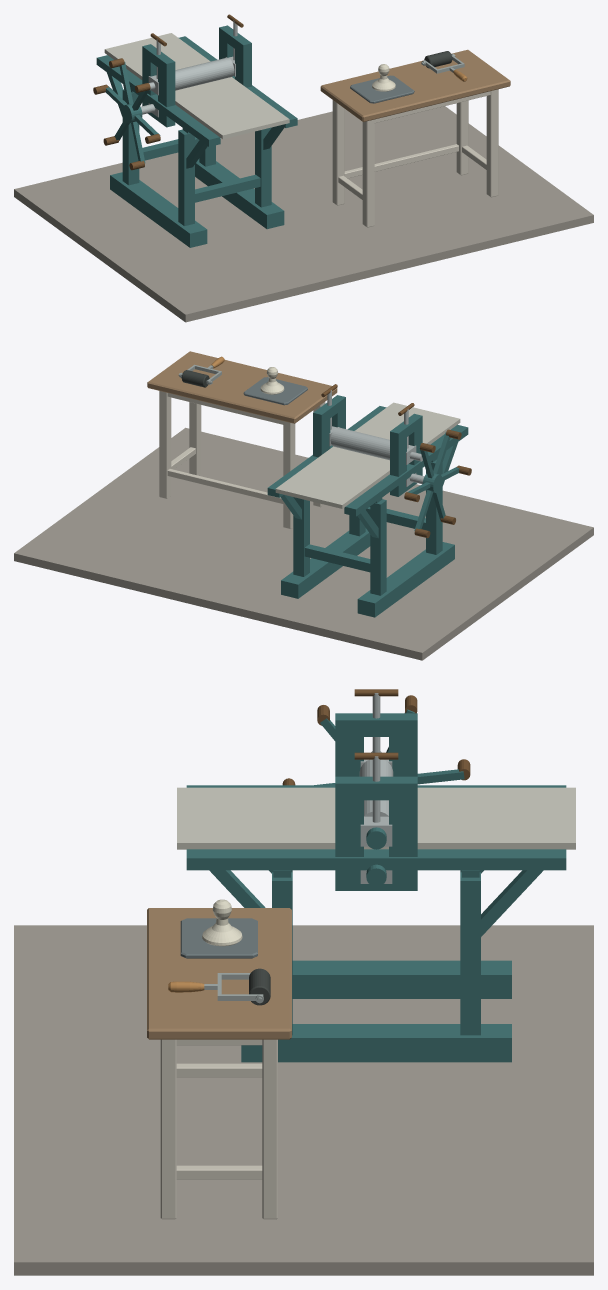
3 renders of one model, top to bottom at view 1: azimuth 30°, elevation 25°; view 2: azimuth 150°, elevation 25°; view 3: azimuth 270°, elevation 25°, orthographic. The views are drawn at different scales.
Visible parts, largest first — view 1: SCENE_ONLY__DisplayFloor, press__WholeLongRigidTraverseBed, table__Complete work surface, press__WholeGroundFootLongShoe_0, press__WholeGroundFootLongShoe_1, press__WholePiercedSideCasting_0, press__WholeLongBedRail_0, press__WholeFullLeg_0_0, table__Worktable leg, table__Worktable leg.002, press__WholePiercedSideCasting_1, table__Worktable leg.001 (+10 smaller); view 2: SCENE_ONLY__DisplayFloor, press__WholeLongRigidTraverseBed, table__Complete work surface, press__WholeGroundFootLongShoe_0, press__WholeGroundFootLongShoe_1, press__WholePiercedSideCasting_0, press__WholeLongBedRail_0, press__WholeFullLeg_0_1, table__Worktable leg.003, press__WholePiercedSideCasting_1, press__WholeContinuousPressRoll_1, press__WholeFullLeg_1_1 (+9 smaller); view 3: SCENE_ONLY__DisplayFloor, press__WholeLongRigidTraverseBed, table__Complete work surface, press__WholeGroundFootLongShoe_1, press__WholeLongBedRail_1, press__WholeGroundFootLongShoe_0, press__WholePiercedSideCasting_1, press__WholePiercedSideCasting_0, press__WholeFullLeg_1_1, table__Worktable leg.002, table__Worktable leg.003, muller__WholeGroundFootFlatGrindingSlab (+7 smaller).
Part boxes in pixels (left/top/right/bottom): SCENE_ONLY__DisplayFloor: left=14, top=106, right=593, bottom=322; press__WholeLongRigidTraverseBed: left=104, top=33, right=289, bottom=139; table__Complete work surface: left=320, top=49, right=510, bottom=121; press__WholeGroundFootLongShoe_0: left=110, top=172, right=207, bottom=247; press__WholeGroundFootLongShoe_1: left=195, top=158, right=284, bottom=229; press__WholePiercedSideCasting_0: left=142, top=44, right=175, bottom=127; press__WholeLongBedRail_0: left=96, top=55, right=220, bottom=146; press__WholeFullLeg_0_0: left=178, top=129, right=194, bottom=226; table__Worktable leg: left=362, top=119, right=374, bottom=227; table__Worktable leg.002: left=486, top=89, right=498, bottom=197; press__WholePiercedSideCasting_1: left=219, top=25, right=251, bottom=87; table__Worktable leg.001: left=332, top=100, right=344, bottom=205; SCENE_ONLY__DisplayFloor: left=14, top=427, right=593, bottom=660; press__WholeLongRigidTraverseBed: left=275, top=402, right=460, bottom=508; table__Complete work surface: left=147, top=351, right=337, bottom=423; press__WholeGroundFootLongShoe_0: left=357, top=542, right=454, bottom=617; press__WholeGroundFootLongShoe_1: left=281, top=528, right=370, bottom=598; press__WholePiercedSideCasting_0: left=390, top=413, right=422, bottom=496; press__WholeLongBedRail_0: left=344, top=424, right=468, bottom=516; press__WholeFullLeg_0_1: left=370, top=499, right=386, bottom=595; table__Worktable leg.003: left=159, top=391, right=171, bottom=498; press__WholePiercedSideCasting_1: left=313, top=395, right=345, bottom=457; press__WholeContinuousPressRoll_1: left=330, top=427, right=389, bottom=460; press__WholeFullLeg_1_1: left=293, top=497, right=309, bottom=576; SCENE_ONLY__DisplayFloor: left=14, top=925, right=593, bottom=1275; press__WholeLongRigidTraverseBed: left=177, top=787, right=575, bottom=849; table__Complete work surface: left=147, top=908, right=291, bottom=1039; press__WholeGroundFootLongShoe_1: left=241, top=1024, right=511, bottom=1062; press__WholeLongBedRail_1: left=186, top=849, right=566, bottom=870; press__WholeGroundFootLongShoe_0: left=292, top=960, right=511, bottom=998; press__WholePiercedSideCasting_1: left=335, top=776, right=417, bottom=890; press__WholePiercedSideCasting_0: left=335, top=713, right=417, bottom=776; press__WholeFullLeg_1_1: left=460, top=872, right=480, bottom=1035; table__Worktable leg.002: left=160, top=1039, right=176, bottom=1219; table__Worktable leg.003: left=262, top=1039, right=277, bottom=1219; muller__WholeGroundFootFlatGrindingSlab: left=180, top=918, right=257, bottom=958.
Bounding box in the file's own units: 3.3 × 1.44 × 2.4.
